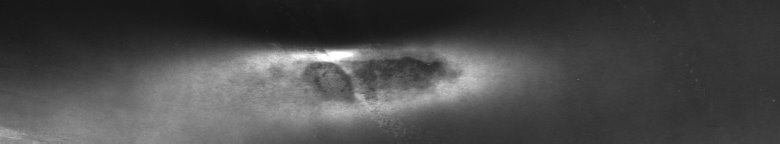ke: (278, 40, 439, 96)
